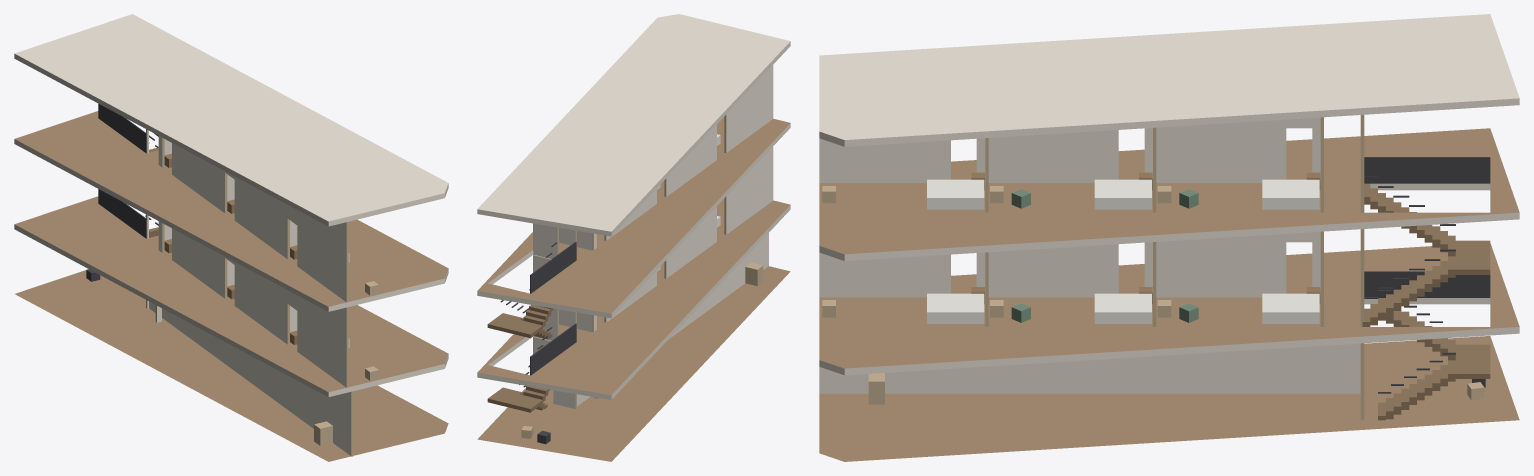
Rendered from interior.glb.
3 renders of one model, left to right at view 1: azimuth 30°, elevation 25°; view 2: azimuth 150°, elevation 25°; view 3: azimuth 270°, elevation 25°, orthographic. The views are drawn at different scales.
Parts seen in each view (by area): view 1: slabs, partitions, stair, coarse-s0, coarse-s2, coarse-s1; view 2: slabs, partitions, stair, coarse-s0; view 3: slabs, partitions, stair, coarse-s2, coarse-s1, coarse-s0.
Boxes of the visible parts, x1,y1,x2,y2 form: slabs: (14, 14, 448, 461); partitions: (146, 129, 353, 456); stair: (98, 103, 158, 238); coarse-s0: (86, 269, 332, 445); coarse-s2: (164, 153, 378, 295); coarse-s1: (164, 239, 378, 380); slabs: (477, 14, 790, 461); partitions: (533, 65, 773, 408); stair: (487, 241, 576, 412); coarse-s0: (521, 262, 763, 444); slabs: (819, 14, 1519, 461); partitions: (819, 115, 1364, 420); stair: (1362, 157, 1490, 420); coarse-s2: (822, 172, 1320, 209); coarse-s1: (822, 287, 1320, 323); coarse-s0: (868, 373, 1485, 404).
Bounding box in the file's own units: 10.37 × 12.36 × 24.34.
